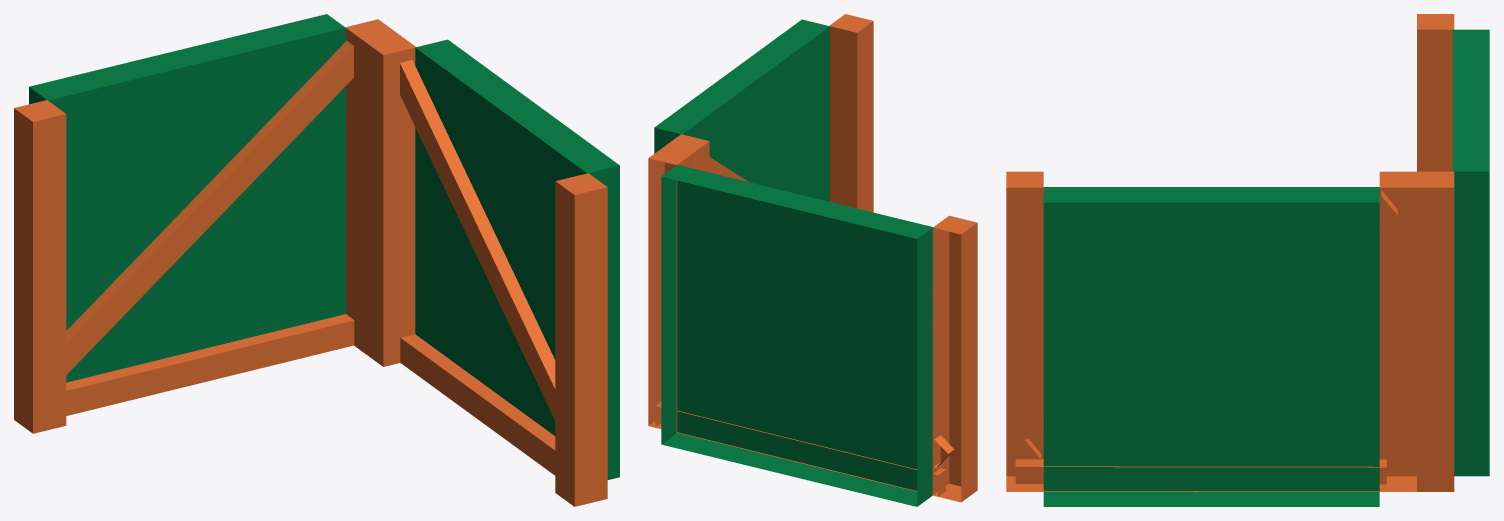
Rendered from CornerWall.fbx.
3 views of the same model, side by side, from view 1: azimuth 30°, elevation 25°; view 2: azimuth 150°, elevation 25°; view 3: azimuth 270°, elevation 25° (orthographic). The views are drawn at different scales.
Visible parts, largest first — view 1: WallFace_Low1, WallFace_Low, WallRight_Low, WallLeft_Low1, WallLeft_Low, UpWood01_Low, WallBottom_Low1, DDown01_Low, WallBottom_Low, WallRight_Low1; view 2: WallFace_Low1, WallFace_Low, WallLeft_Low1, WallRight_Low, WallRight_Low1, WallBottom_Low1, WallLeft_Low; view 3: WallFace_Low, WallFace_Low1, WallRight_Low1, WallLeft_Low, WallRight_Low, WallLeft_Low1, WallBottom_Low, DDown01_Low.
Part boxes in pixels (x1,y1,x2,y2): WallFace_Low1: (29,14,345,382); WallFace_Low: (415,39,619,479); WallRight_Low: (555,173,607,506); WallLeft_Low1: (14,100,66,433); WallLeft_Low: (364,33,415,366); UpWood01_Low: (66,41,353,374); WallBottom_Low1: (66,314,354,415); DDown01_Low: (400,60,555,420); WallBottom_Low: (400,334,555,475); WallRight_Low1: (345,19,396,352); WallFace_Low1: (661,164,933,506); WallFace_Low: (654,19,829,201); WallLeft_Low1: (932,215,977,502); WallRight_Low: (829,14,873,212); WallRight_Low1: (648,146,693,432); WallBottom_Low1: (655,402,945,496); WallLeft_Low: (665,134,709,172); WallFace_Low: (1043,187,1379,506); WallFace_Low1: (1452,29,1489,476); WallRight_Low1: (1417,171,1454,491); WallLeft_Low: (1379,171,1416,491); WallRight_Low: (1006,171,1043,491); WallLeft_Low1: (1417,14,1454,171); WallBottom_Low: (1015,459,1386,491); DDown01_Low: (1024,190,1397,459).
Bounding box in the file's own units: 664 × 500 × 719.
